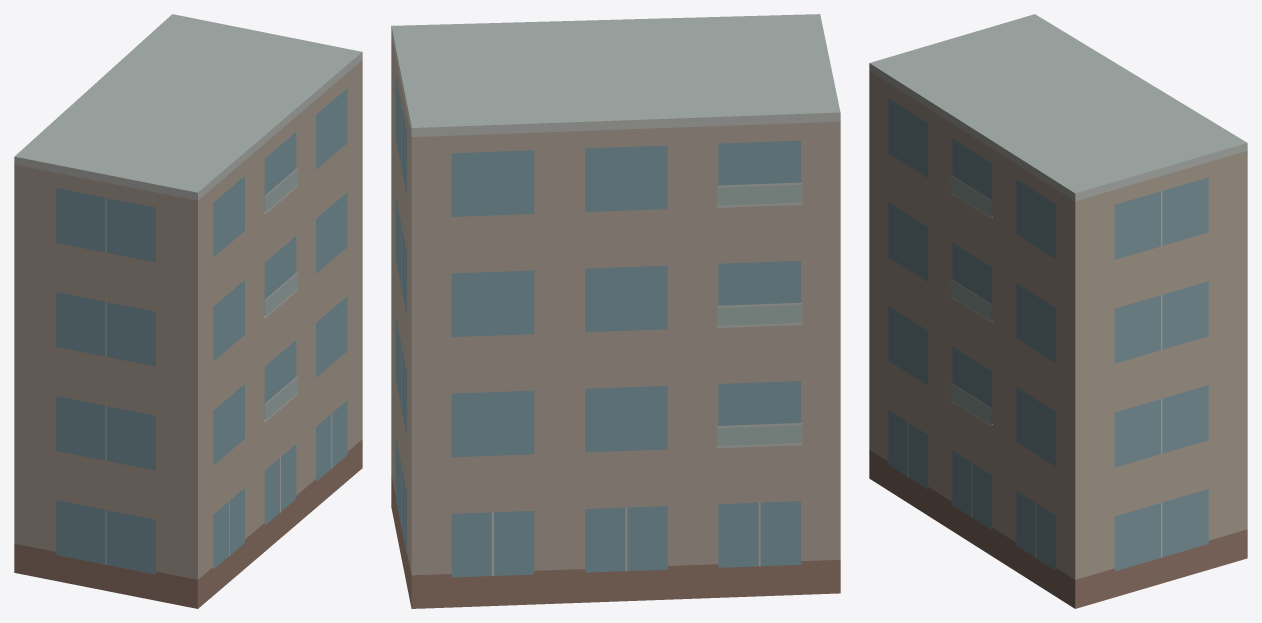
The model's file is survey-upis-33003136.glb.
The picture shows the model from 3 angles, left to right: view 1: azimuth 30°, elevation 25°; view 2: azimuth 150°, elevation 25°; view 3: azimuth 270°, elevation 25°; orthographic projection. The views are drawn at different scales.
Visible parts, largest first — view 1: survey-upis-33003136.tmp; view 2: survey-upis-33003136.tmp; view 3: survey-upis-33003136.tmp.
Part boxes in pixels (x1,y1,x2,y2): survey-upis-33003136.tmp: (14,14,362,608); survey-upis-33003136.tmp: (391,14,840,608); survey-upis-33003136.tmp: (869,14,1247,608).
Size of the model in its own units: 11.96 by 12.9 by 10.66.
